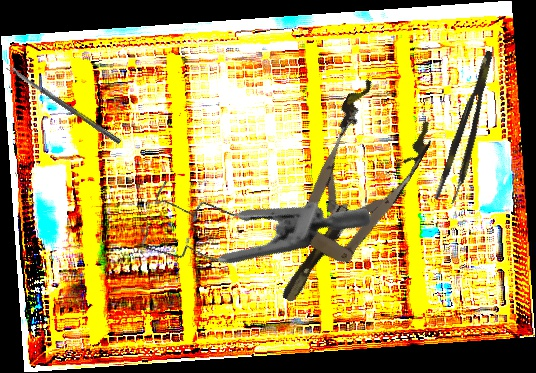Speculum: (118, 97, 375, 336), (244, 74, 443, 324)
Surgical Spoon: (5, 63, 123, 145)
Tissue Forceps: (433, 49, 507, 206)
